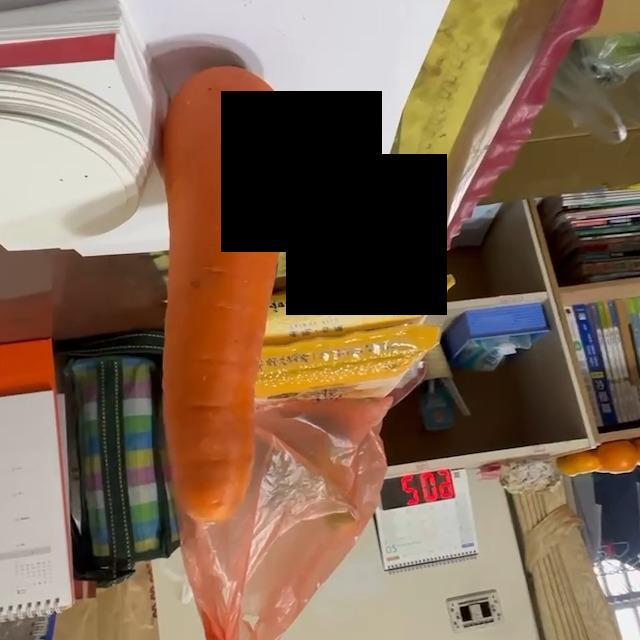carrot: (161, 66, 300, 524)
